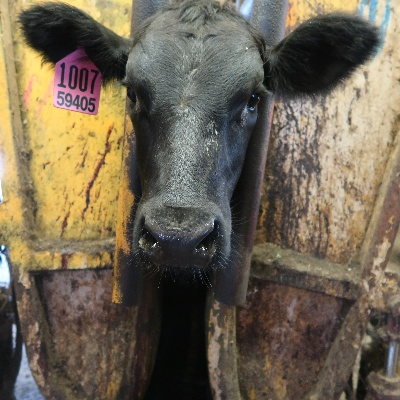fidget_spinner: (137, 207, 217, 270)
